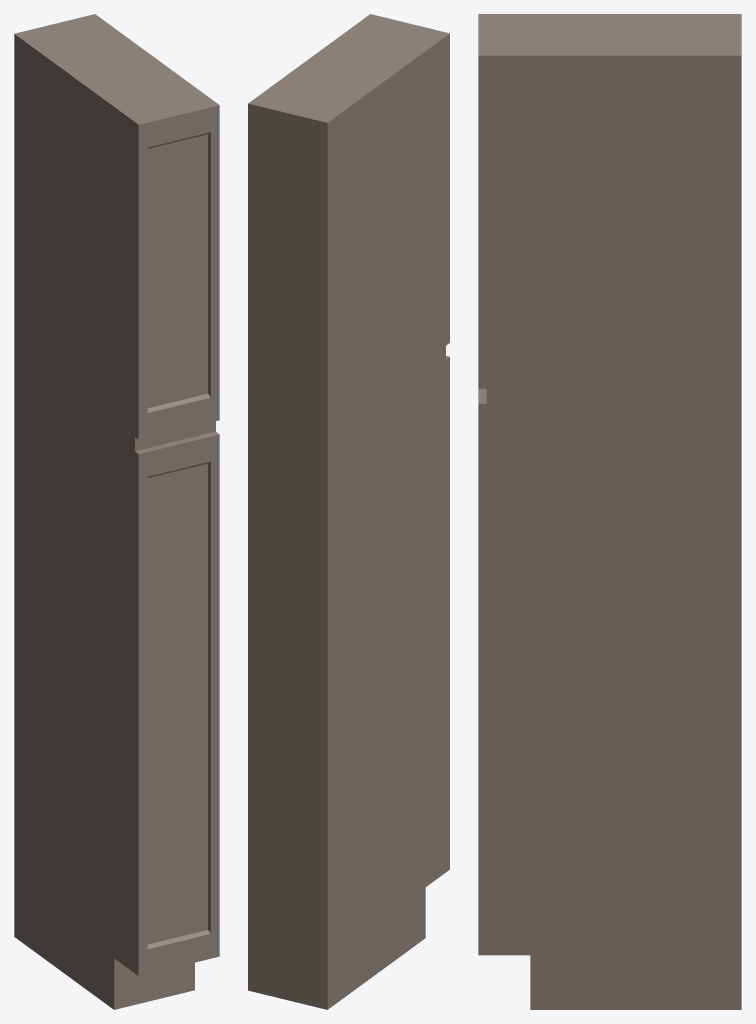
The model's file is Universal-Design-Utility-Cabinet-24-Deep_std_001_W9in_1D.glb.
The picture shows the model from 3 angles, left to right: view 1: azimuth 30°, elevation 25°; view 2: azimuth 150°, elevation 25°; view 3: azimuth 270°, elevation 25°; orthographic projection. The views are drawn at different scales.
Visible parts, largest first — view 1: Universal-Design-Utility-Cabinet-24-Deep.std.001_W9in_1D; view 2: Universal-Design-Utility-Cabinet-24-Deep.std.001_W9in_1D; view 3: Universal-Design-Utility-Cabinet-24-Deep.std.001_W9in_1D.
Boxes of the visible parts, <box> form: Universal-Design-Utility-Cabinet-24-Deep.std.001_W9in_1D: <box>14,14,219,1009</box>; Universal-Design-Utility-Cabinet-24-Deep.std.001_W9in_1D: <box>248,14,449,1009</box>; Universal-Design-Utility-Cabinet-24-Deep.std.001_W9in_1D: <box>478,14,741,1009</box>.
Size of the model in its own units: 0.2286 by 2.44 by 0.6096.
